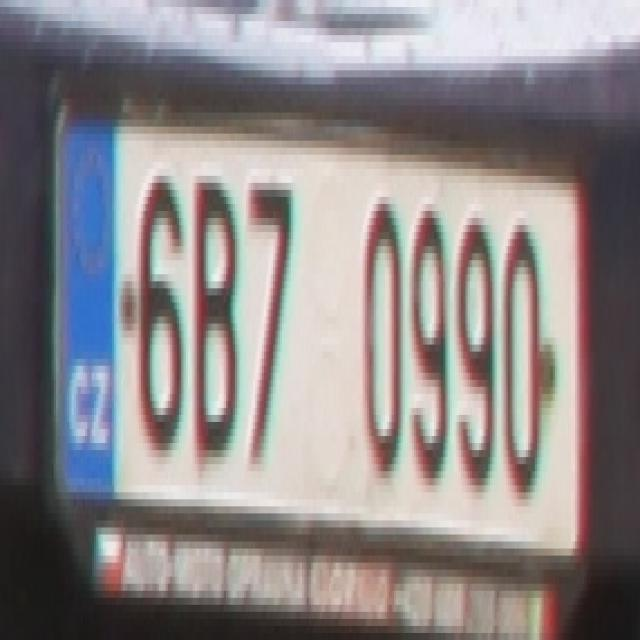0: (358, 196, 403, 478), (501, 218, 544, 500)
6: (134, 168, 184, 450)
7: (247, 176, 296, 472)
9: (450, 211, 499, 492), (405, 211, 448, 492)
B: (188, 168, 237, 464)
